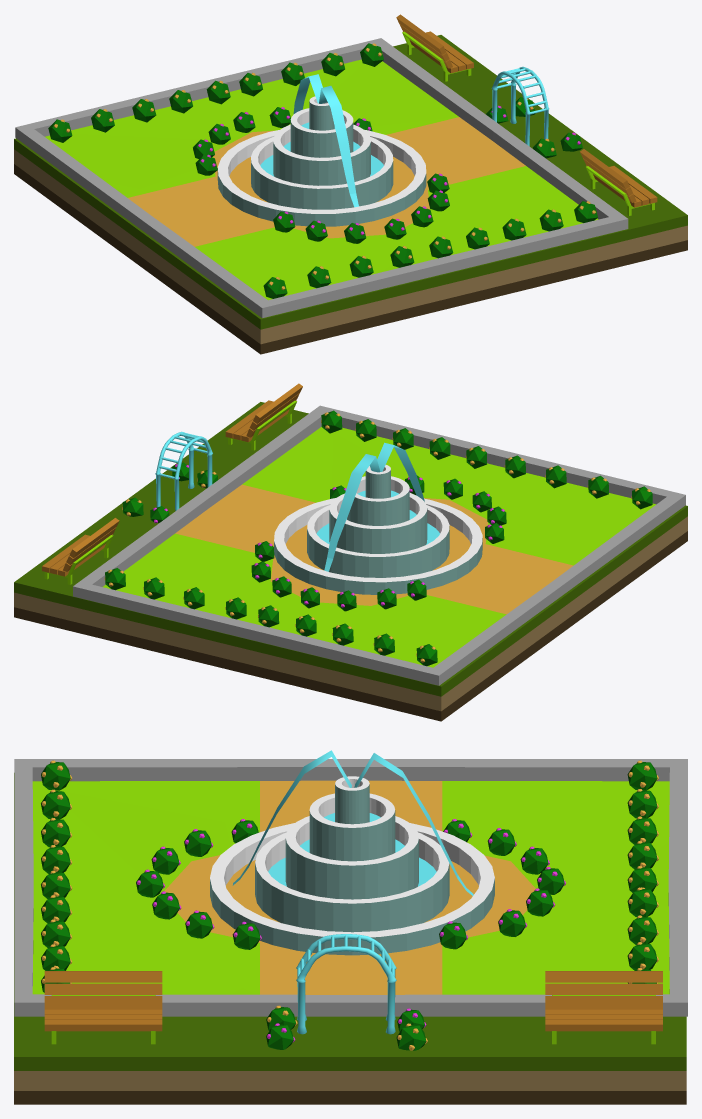
The model's file is person test.fbx.
The picture shows the model from 3 angles, top to bottom: view 1: azimuth 30°, elevation 25°; view 2: azimuth 150°, elevation 25°; view 3: azimuth 270°, elevation 25°; orthographic projection. The views are drawn at different scales.
Visible parts, largest first — view 1: Plane.001; view 2: Plane.001; view 3: Plane.001.
Part boxes in pixels (x1,y1,x2,y2): Plane.001: (14,14,687,354); Plane.001: (14,383,687,721); Plane.001: (14,750,687,1104).
Size of the model in its own units: 396 by 122 by 397.
